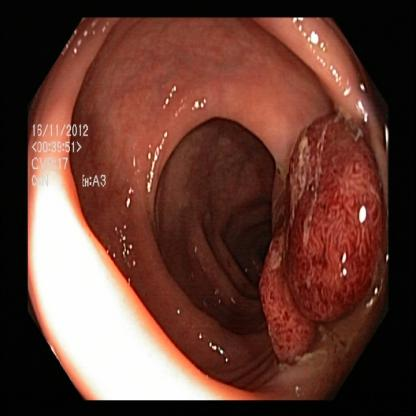Labels: (30, 113, 114, 197)
Polyps: (273, 112, 369, 348)
